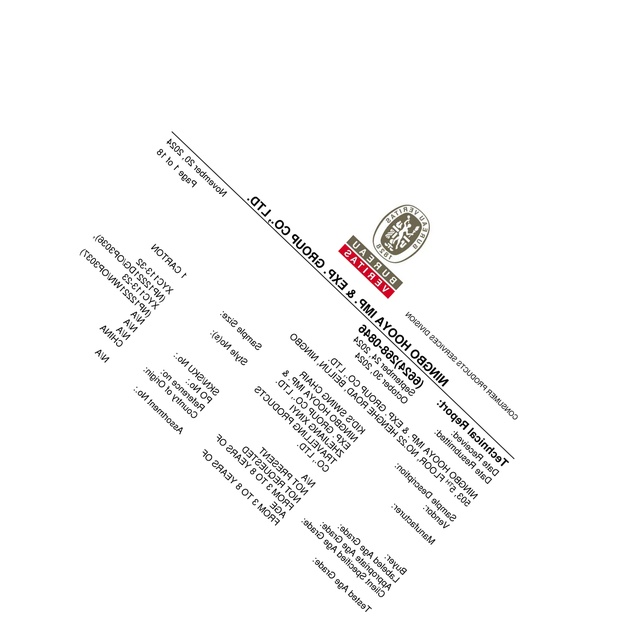bureau_veritas: (337, 200, 432, 299)
